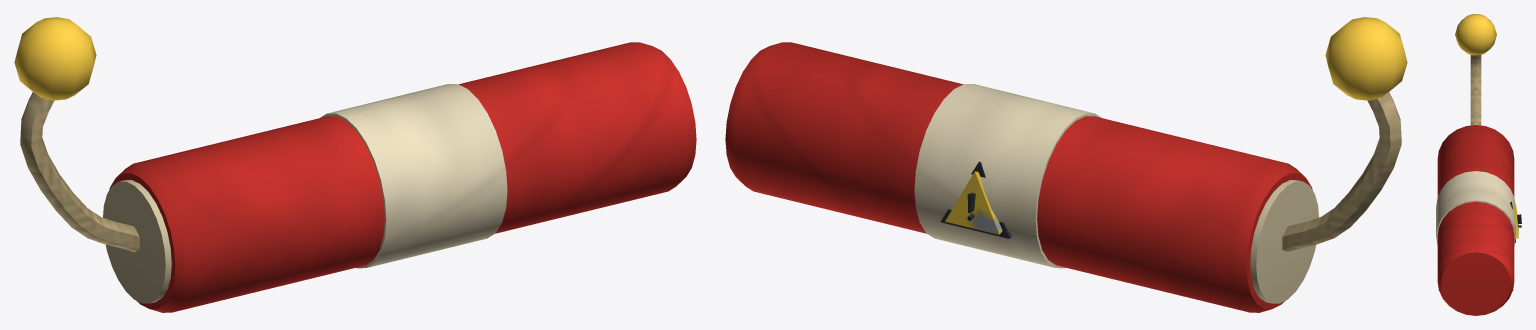
Rendered from Dynamite.fbx.
The picture shows the model from 3 angles, left to right: view 1: azimuth 30°, elevation 25°; view 2: azimuth 150°, elevation 25°; view 3: azimuth 270°, elevation 25°; orthographic projection. The views are drawn at different scales.
Parts seen in each view (by area): view 1: Dynamite; view 2: Dynamite; view 3: Dynamite.
Part boxes in pixels (box(x1,y1,x2,y2)): Dynamite: box(14, 17, 696, 312); Dynamite: box(725, 17, 1407, 312); Dynamite: box(1436, 14, 1521, 315).
Bounding box in the file's own units: 0.5289 × 0.247 × 0.1226.
7 materials, 7 textured.
